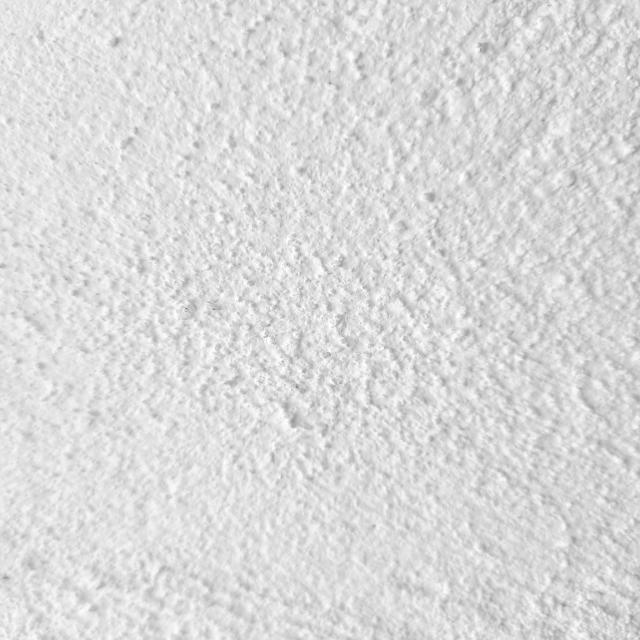rough and patchy surface: (6, 2, 628, 636)
